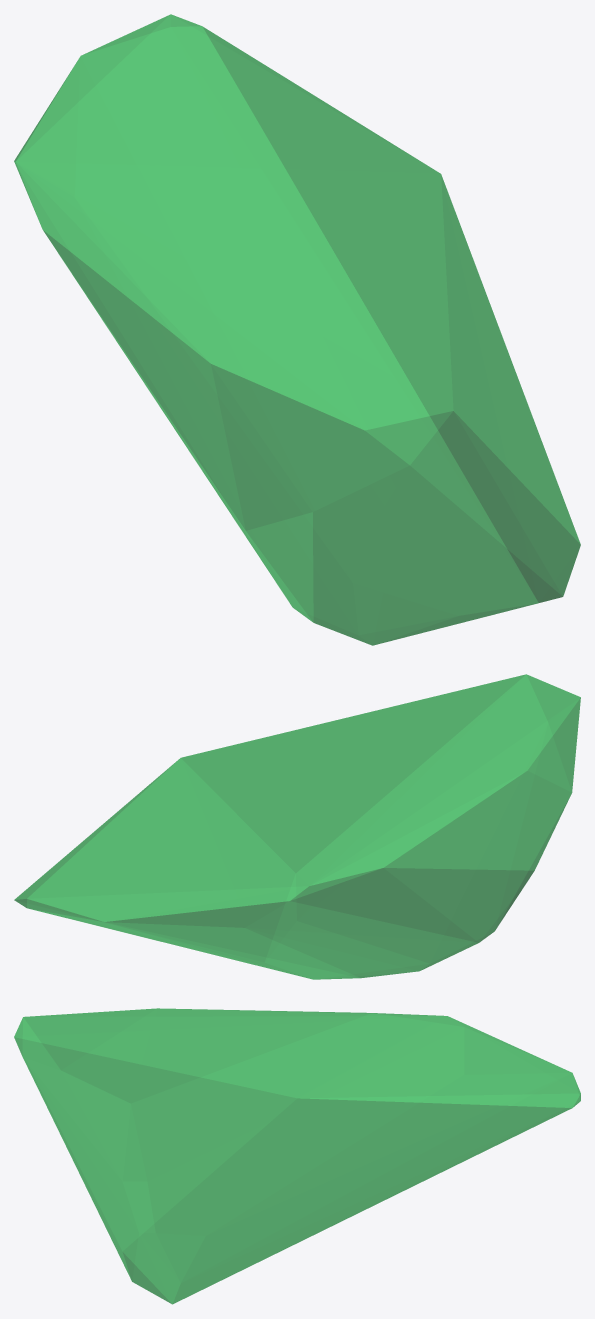
The picture shows the model from 3 angles, top to bottom: view 1: azimuth 30°, elevation 25°; view 2: azimuth 150°, elevation 25°; view 3: azimuth 270°, elevation 25°; orthographic projection. The views are drawn at different scales.
Visible parts, largest first — view 1: Shape_IndexedFaceSet.001_Shape_IndexedFaceSet.9809; view 2: Shape_IndexedFaceSet.001_Shape_IndexedFaceSet.9809; view 3: Shape_IndexedFaceSet.001_Shape_IndexedFaceSet.9809.
Part boxes in pixels (bbox=[...]): Shape_IndexedFaceSet.001_Shape_IndexedFaceSet.9809: bbox=[14, 14, 580, 645]; Shape_IndexedFaceSet.001_Shape_IndexedFaceSet.9809: bbox=[14, 674, 580, 979]; Shape_IndexedFaceSet.001_Shape_IndexedFaceSet.9809: bbox=[14, 1008, 580, 1304].
Size of the model in its own units: 0.1627 by 0.1565 by 0.3861.
